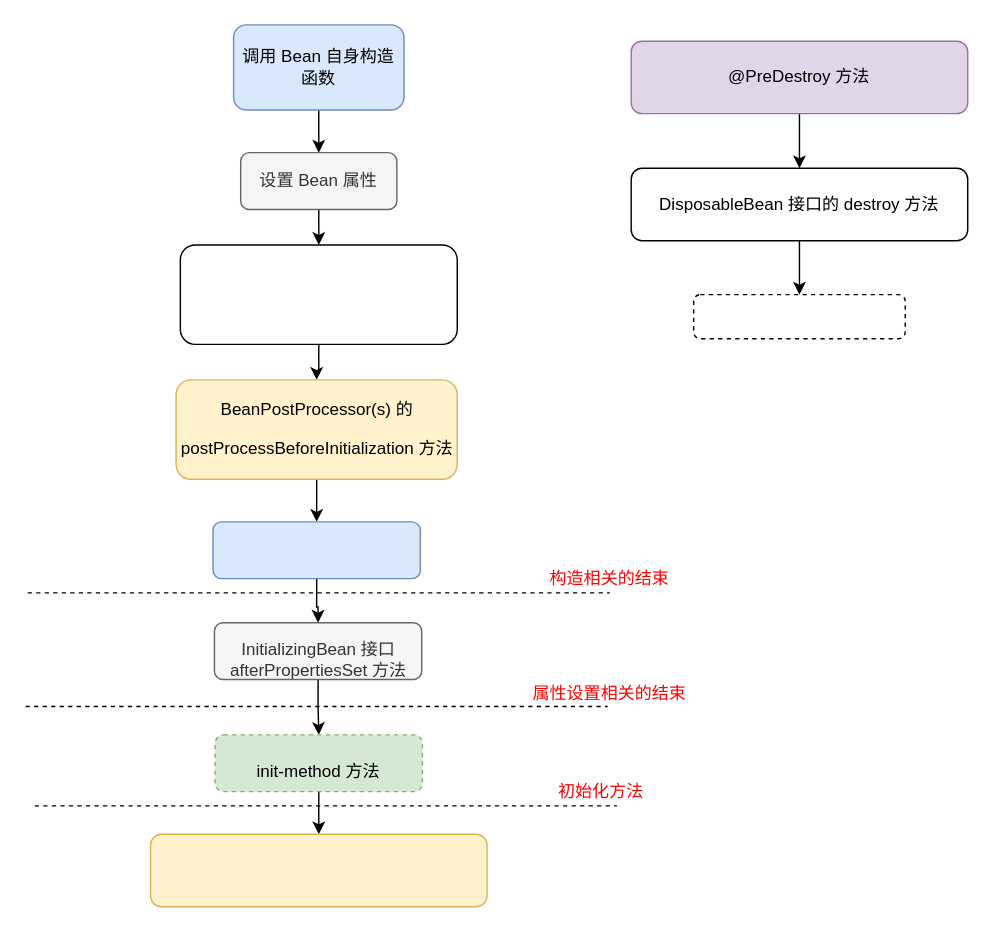
This 993x941 diagram has some shape labels left out. The shapes that lost their labels are listed below. From the top down, each one's centre as x and y in pixels, then its label:
At point 318,294: "*Aware 接口的方法(注入 Bean Name、BeanFactory、ApplicationContext等基础组件)".
At point 798,316: "destroy-method 方法".
At point 316,549: "@PostConstruct 方法".
At point 318,870: "BeanPostProcessor(s) 的 postProcessAfterInitialization 方法".
